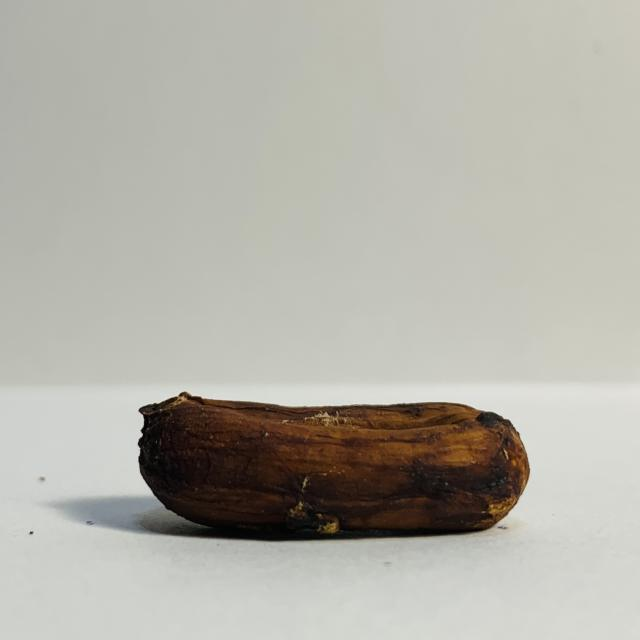Fine_cocoabeans: (25, 371, 602, 577)
